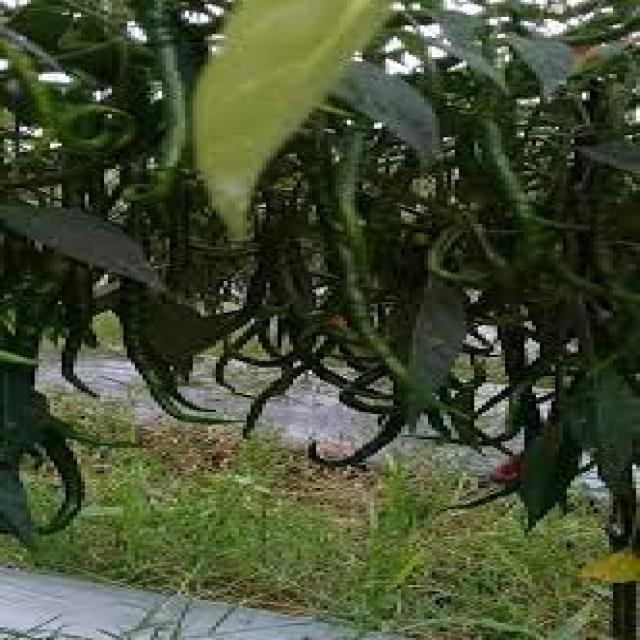Mosaic_virus: (0, 0, 640, 530)
